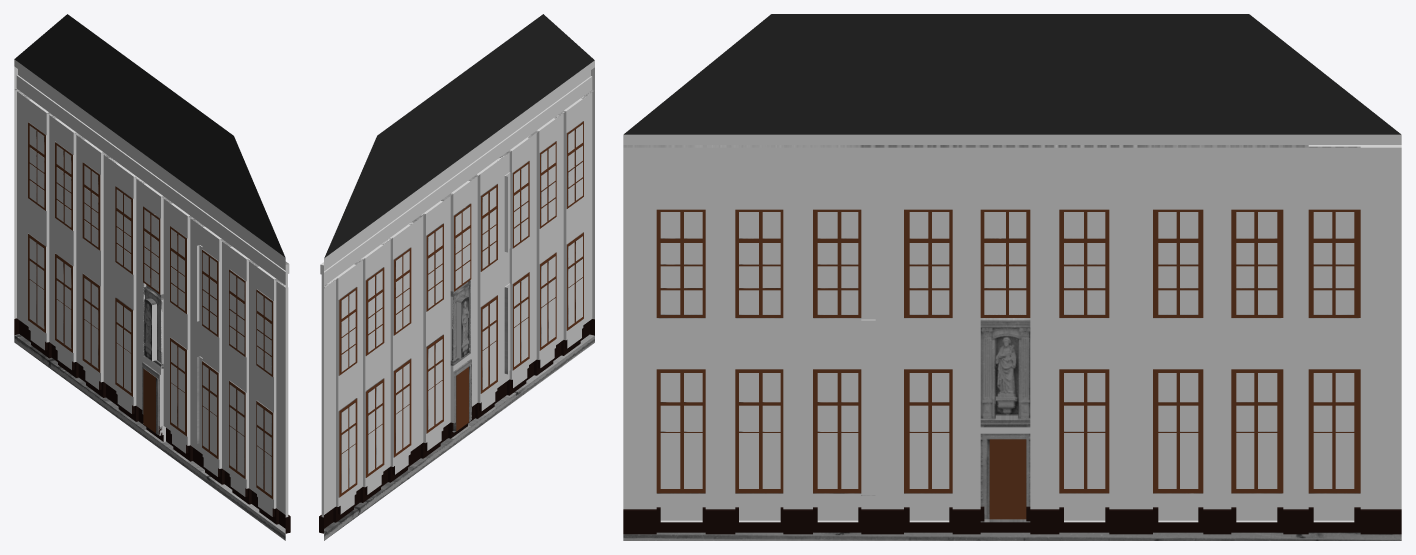
File: asset.glb
The picture shows the model from 3 angles, left to right: view 1: azimuth 30°, elevation 25°; view 2: azimuth 150°, elevation 25°; view 3: azimuth 270°, elevation 25°; orthographic projection. The views are drawn at different scales.
Visible parts, largest first — view 1: St Joseph School 1 unskewed; view 2: St Joseph School 1 unskewed; view 3: St Joseph School 1 unskewed.
Part boxes in pixels (<box>): St Joseph School 1 unskewed: <box>14,14,290,540</box>; St Joseph School 1 unskewed: <box>319,14,594,540</box>; St Joseph School 1 unskewed: <box>623,14,1401,540</box>.
Size of the model in its own units: 0.3519 by 14 by 18.74.
Materials: 6 (1 with a texture image).
